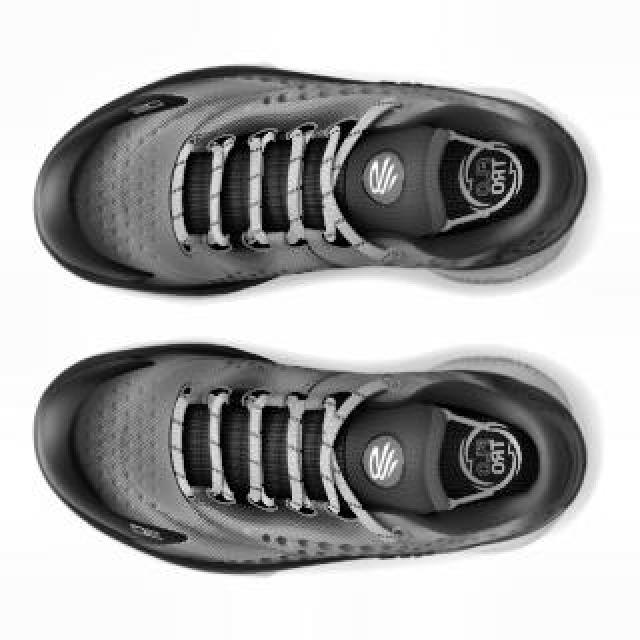shoes: (34, 337, 590, 577), (32, 63, 588, 299)
